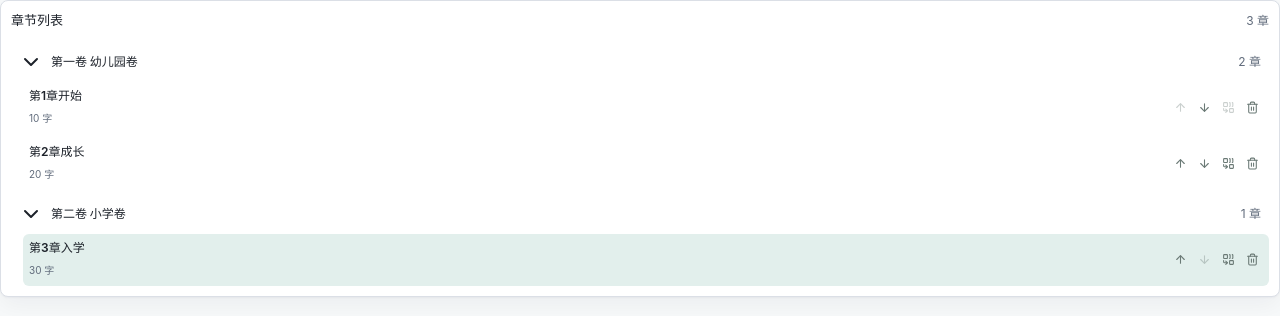
Scenario: ChapterSidebar › 按卷分组并支持展开收起
This screenshot has width=1280, height=316.
Expected: the text "第一卷 幼儿园卷" is shown, [51,54,138,68]
Expected: the text "第1章开始" is shown, [29,88,82,102]
Click the button with aria-label "收起卷 第一卷 幼儿园卷". click: [94, 61]
box: [11,42,1269,82]
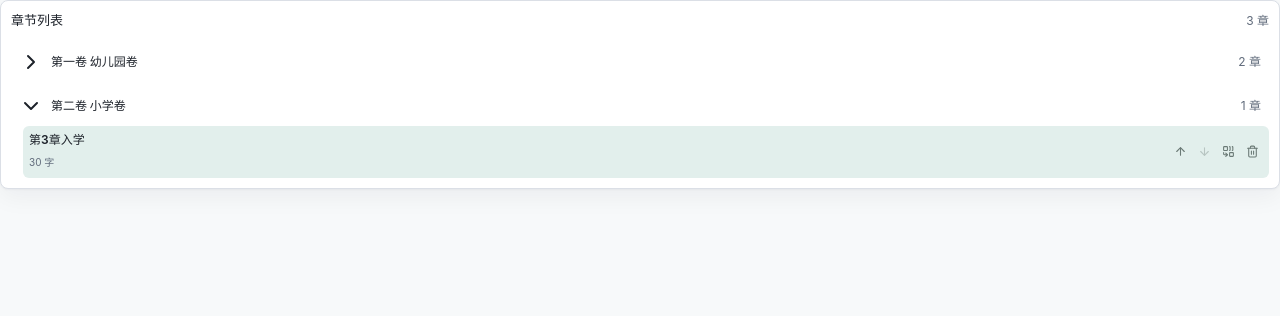
Now the button "第1章开始" is gone
Click the button with aria-label "展开卷 第一卷 幼儿园卷". click: [94, 61]
box: [11,42,1269,82]
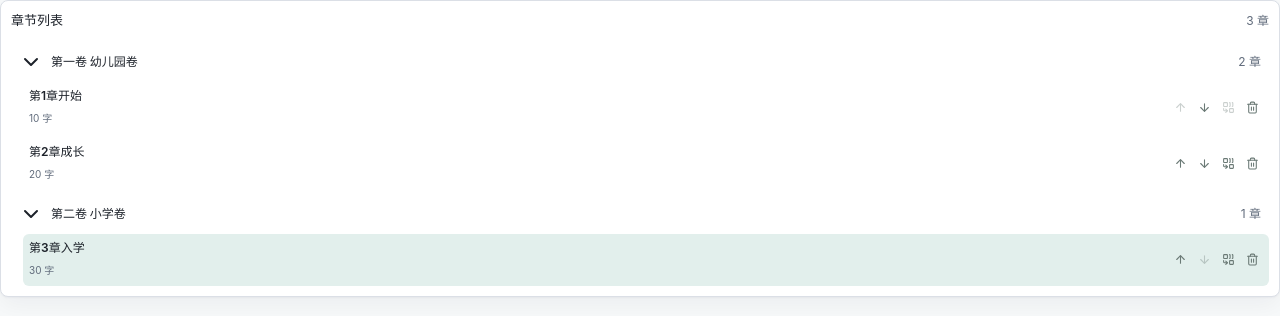
Now the text "第2章成长" is shown, box [29,144,84,159]
